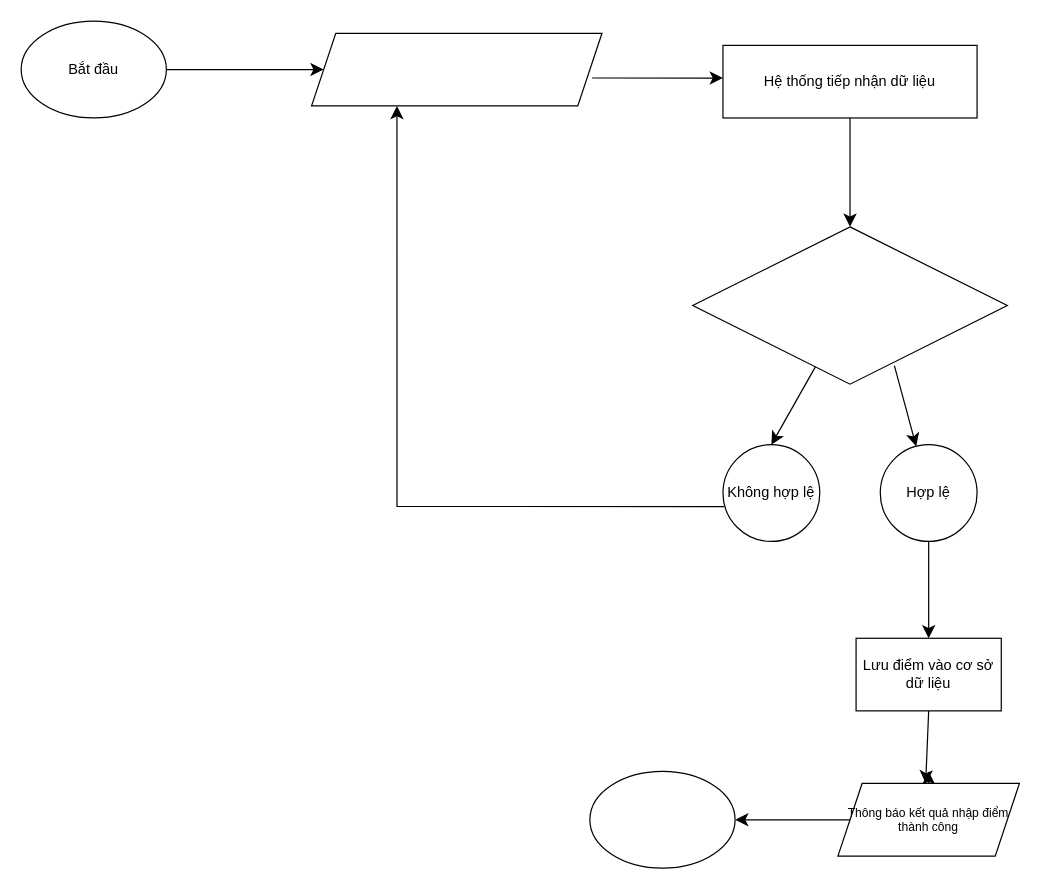
Image size: 1041x889. Some labels were removed from this diagram. Here are the shapes that lost their labels. From the top down, the box of each, then its label:
(310, 32, 602, 106): Sinh viên nhập điểm vào hệ thống
(692, 226, 1007, 384): Kiểm tra tính hợp lệ của điểm
(589, 770, 735, 868): Kết thúc
